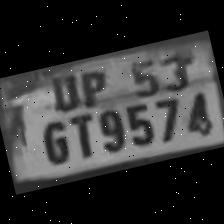3: (153, 42, 188, 90)
4: (174, 84, 216, 140)
5: (118, 94, 158, 148), (119, 50, 160, 98)
7: (146, 89, 185, 144)
9: (88, 100, 128, 154)
G: (32, 113, 74, 169)
P: (71, 62, 114, 107)
T: (63, 107, 100, 162)
U: (42, 66, 83, 113)
